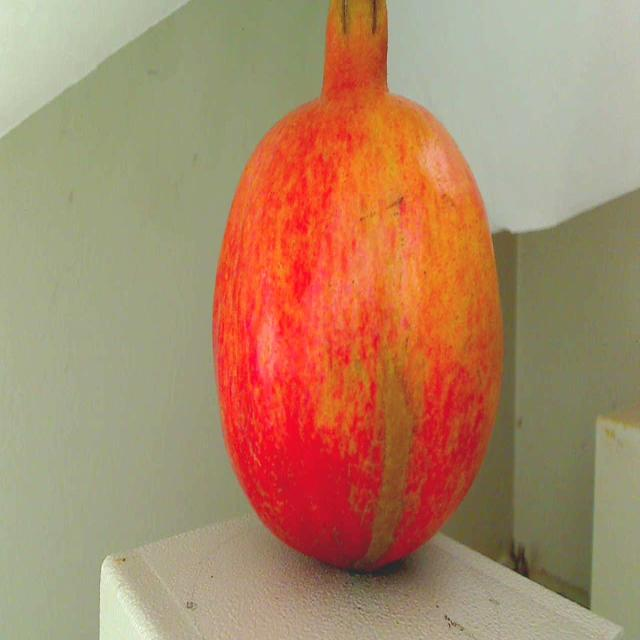pomegranate: (206, 0, 512, 576)
